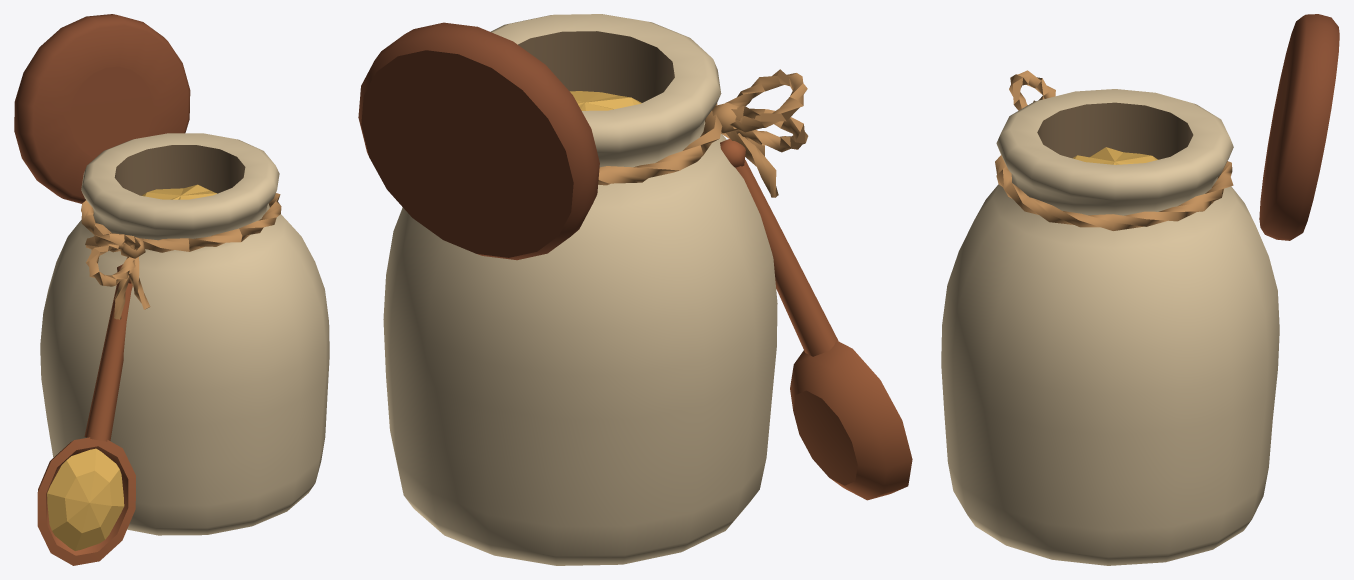
File: partial.glb
3 renders of one model, left to right at view 1: azimuth 30°, elevation 25°; view 2: azimuth 150°, elevation 25°; view 3: azimuth 270°, elevation 25°, orthographic. The views are drawn at different scales.
Parts seen in each view (by area): view 1: jar, lid, scoop, grain_scoop, rope, grain; view 2: jar, lid, scoop, rope, grain; view 3: jar, lid, rope, grain.
Boxes of the visible parts, left/top/right/bottom form: jar: left=40, top=133, right=329, bottom=535; lid: left=14, top=14, right=190, bottom=203; scoop: left=37, top=264, right=135, bottom=565; grain_scoop: left=47, top=448, right=124, bottom=550; rope: left=81, top=193, right=281, bottom=319; grain: left=142, top=184, right=216, bottom=199; jar: left=383, top=14, right=777, bottom=565; lid: left=358, top=22, right=599, bottom=260; scoop: left=720, top=138, right=912, bottom=500; rope: left=598, top=69, right=808, bottom=197; grain: left=570, top=91, right=641, bottom=110; jar: left=941, top=89, right=1279, bottom=565; lid: left=1259, top=14, right=1339, bottom=240; rope: left=995, top=70, right=1233, bottom=230; grain: left=1072, top=147, right=1157, bottom=164.
Bounding box in the file's own units: 0.5625 × 0.6799 × 0.5101.
